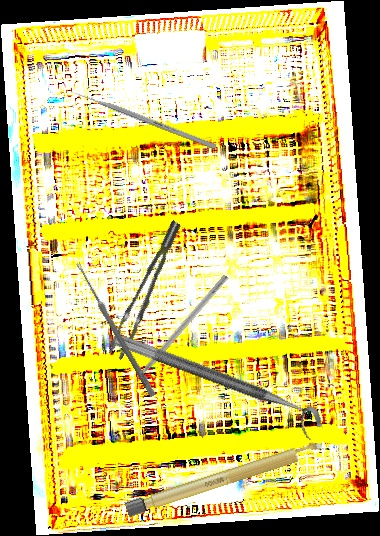Chopper: (120, 269, 229, 391)
Fixation Ring: (104, 331, 329, 443)
Pusher: (70, 88, 217, 150)
Scalpel Handle: (124, 438, 326, 519)
Surgical Spoon: (74, 261, 157, 398)
Tissue Forceps: (95, 220, 199, 360)
